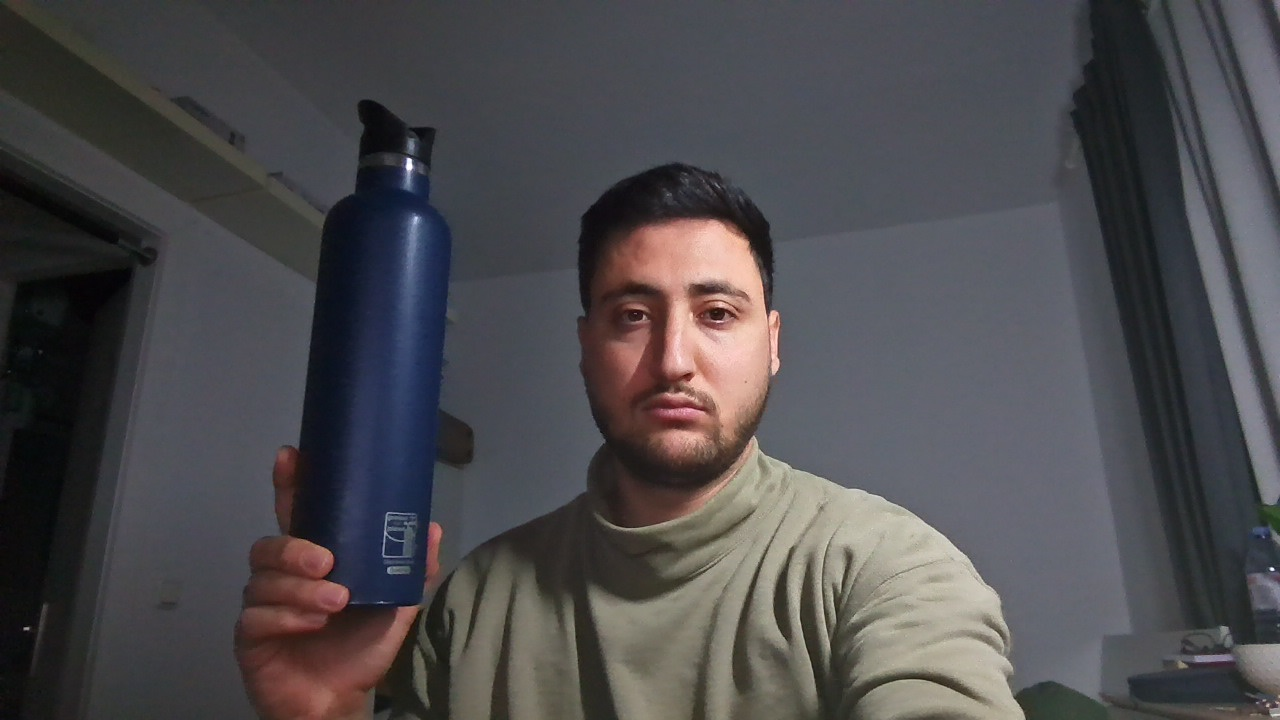Wasserflasche: (268, 72, 458, 619)
me: (550, 141, 794, 504)
